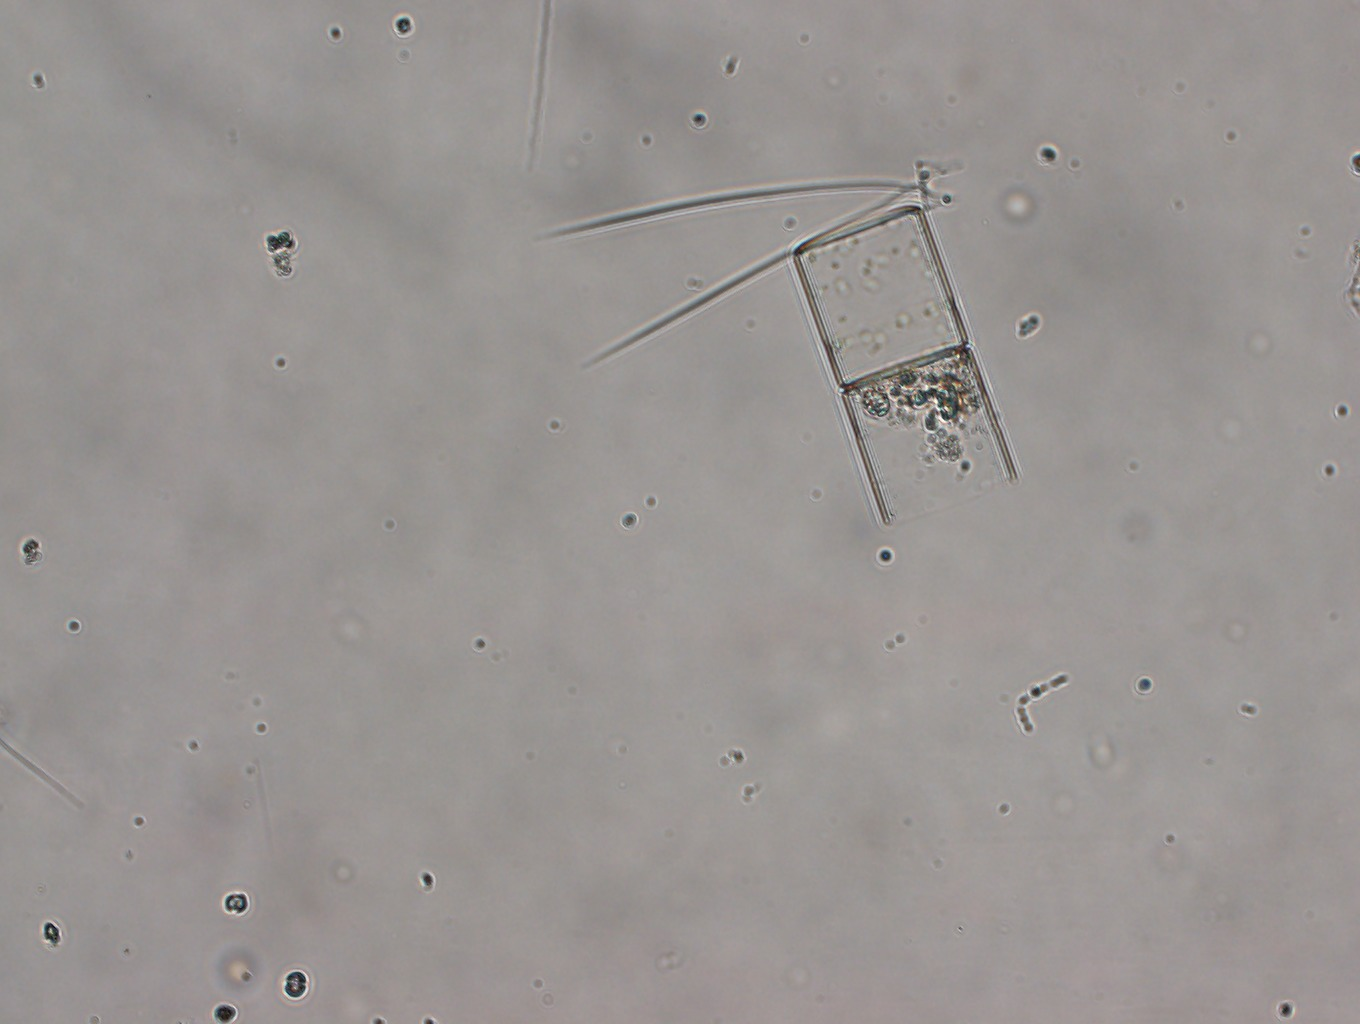guinardia flaccida: (781, 196, 1029, 527)
